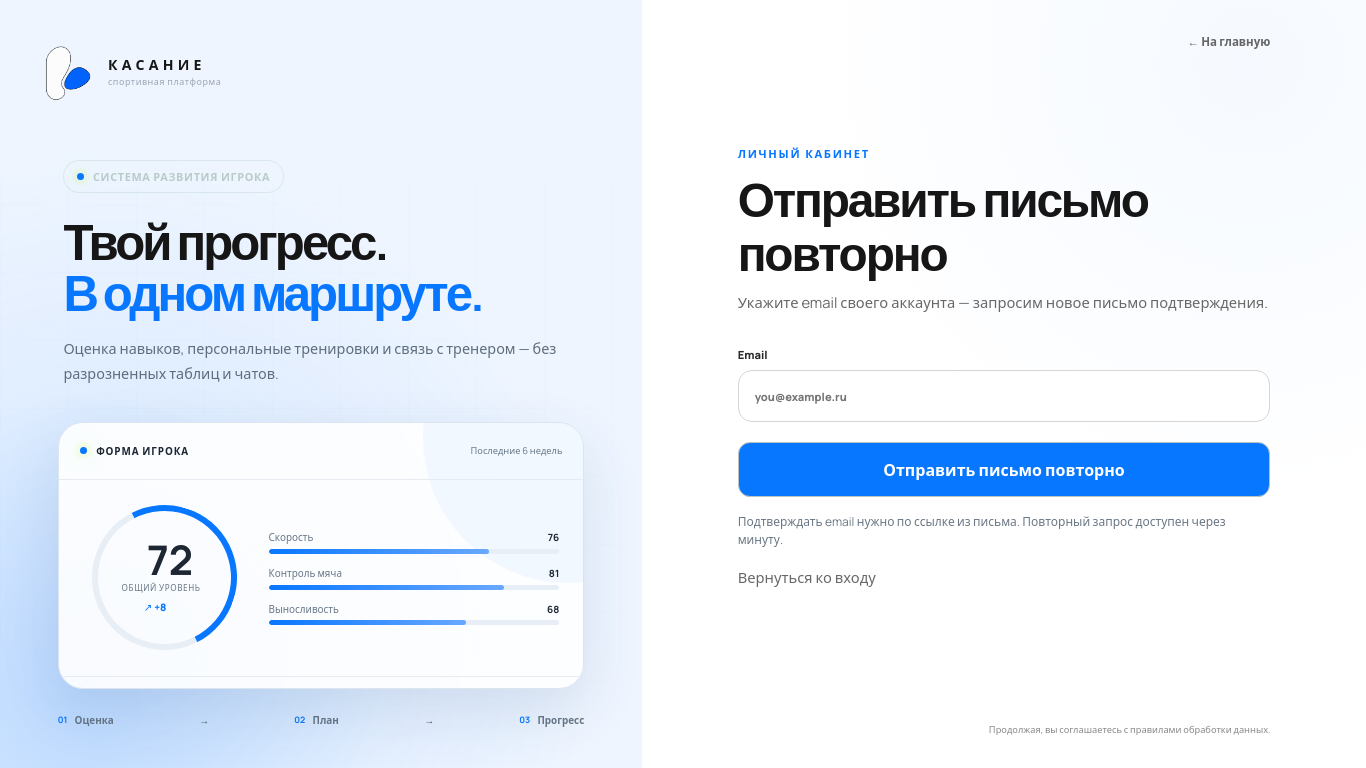
Test: resend email confirmation › offers a standalone route without requiring a password
Type "recipient@example.test" into the field labelled "Email".
click(1004, 396); type("recipient@example.test")  # box [738,370,1270,422]
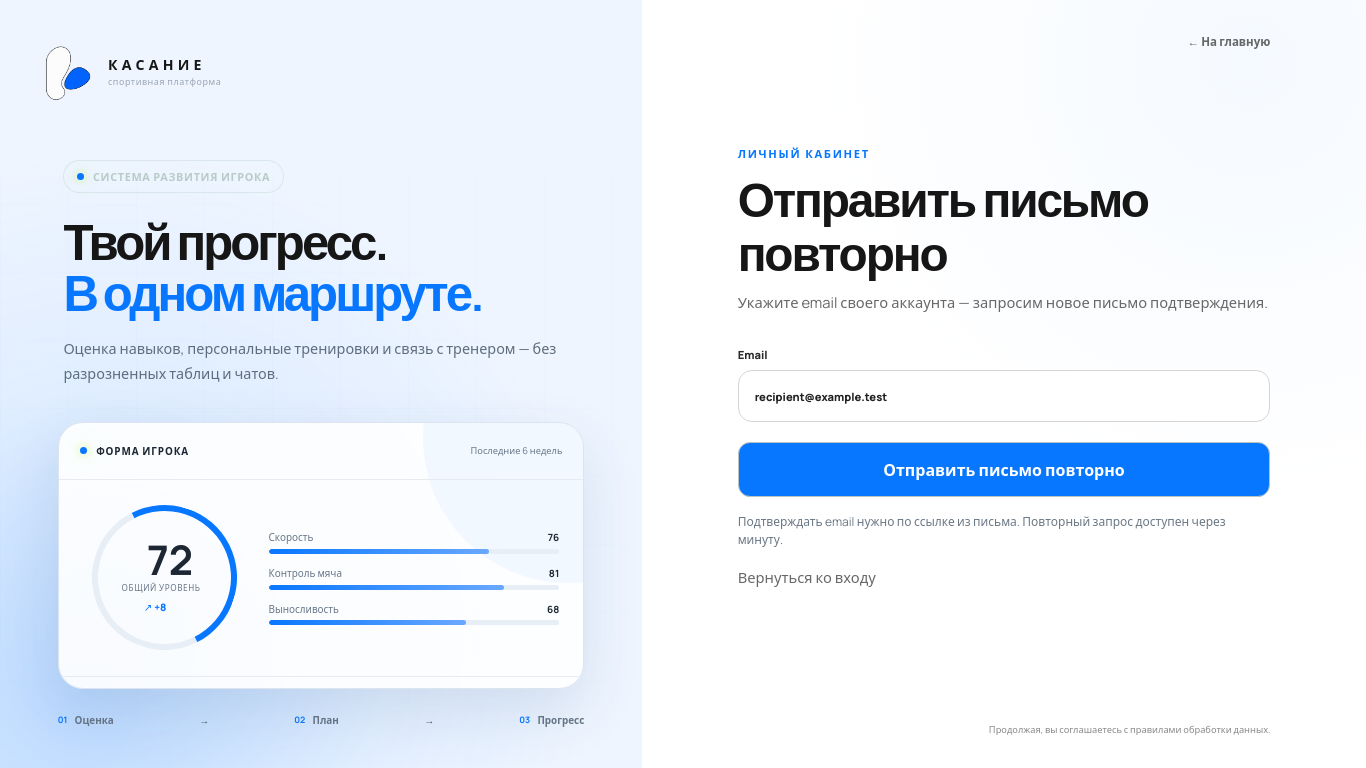
Click the button "Отправить письмо повторно".
click(1004, 470)  # box [738,442,1270,497]
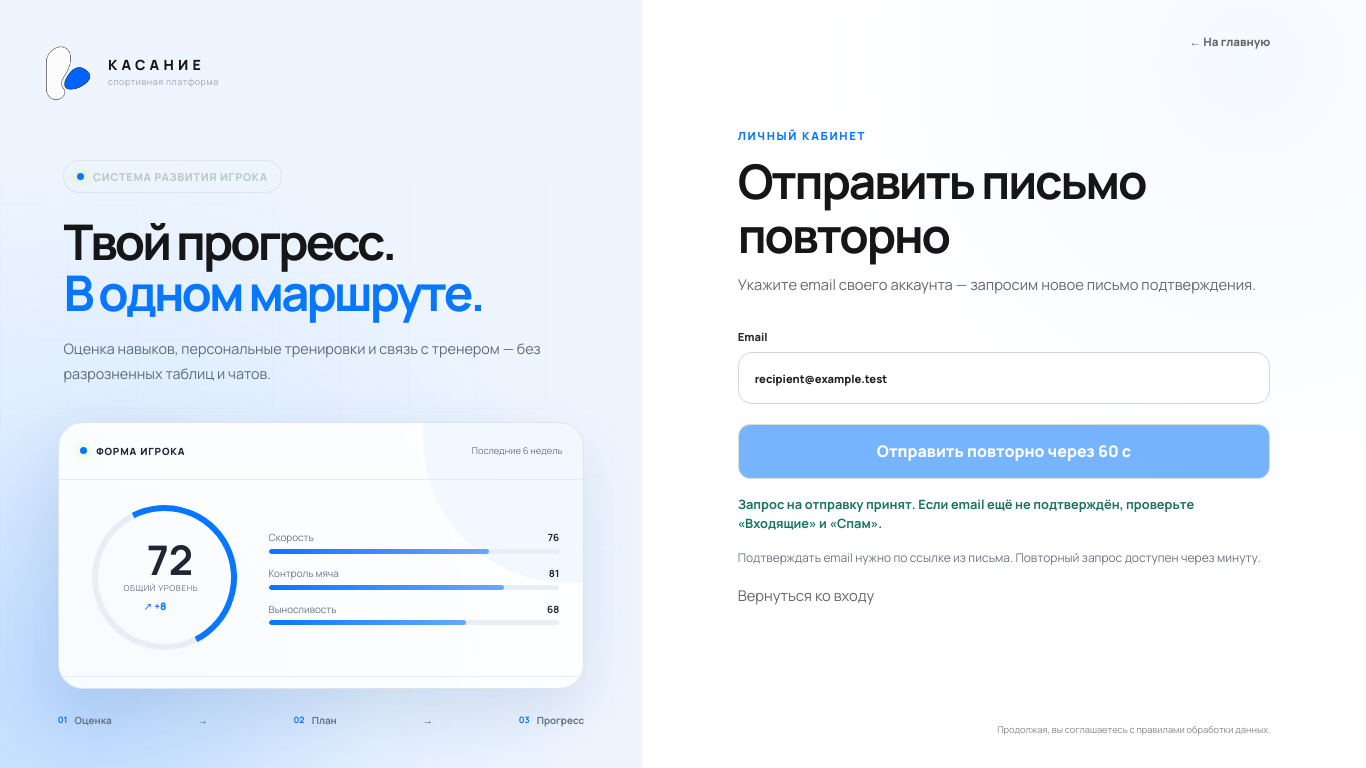
Expected: the message shows "Если email ещё не подтверждён", [738,494,1194,532]
Expected: the button "Отправить повторно через 60 с" is disabled, [738,424,1270,479]
